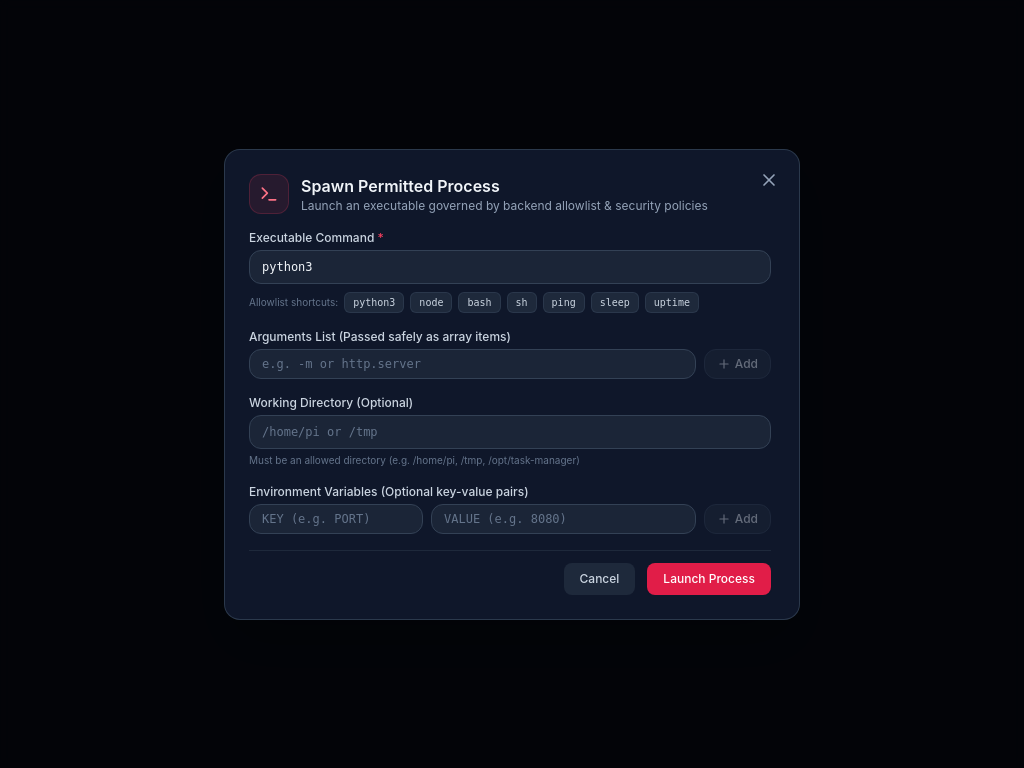
it: CreateProcessDialog › Allowlist shortcut chips › clicking the python3 chip sets the command to python3
Replace the text in the field with placeholder "e.g. python3" with "bash": (510,266) top-left (249, 250), bottom-right (771, 284)
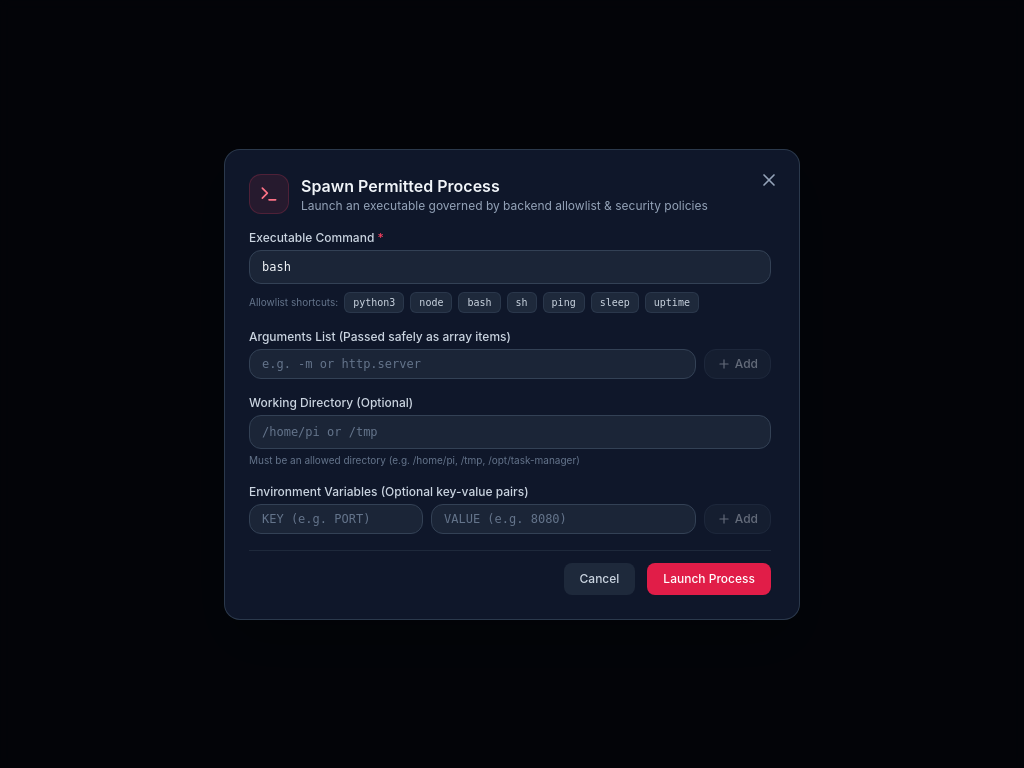
Click the button "python3": (374,302) top-left (344, 292), bottom-right (404, 312)
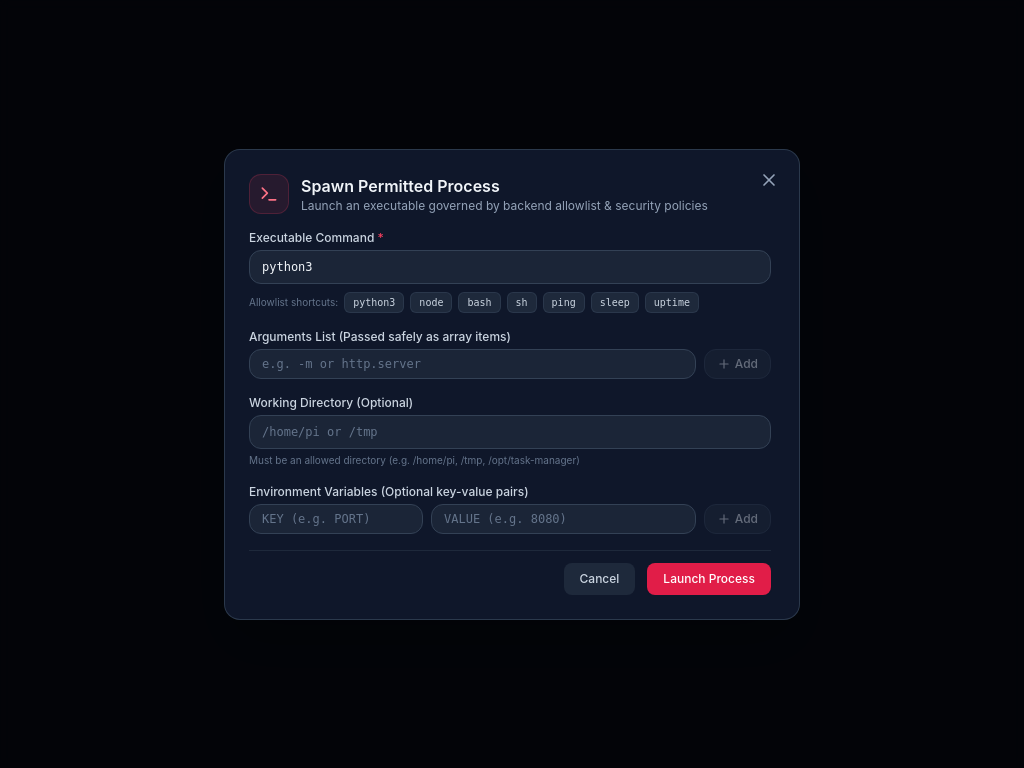
Now the field with placeholder "e.g. python3" holds "python3", box top-left (249, 250), bottom-right (771, 284)
